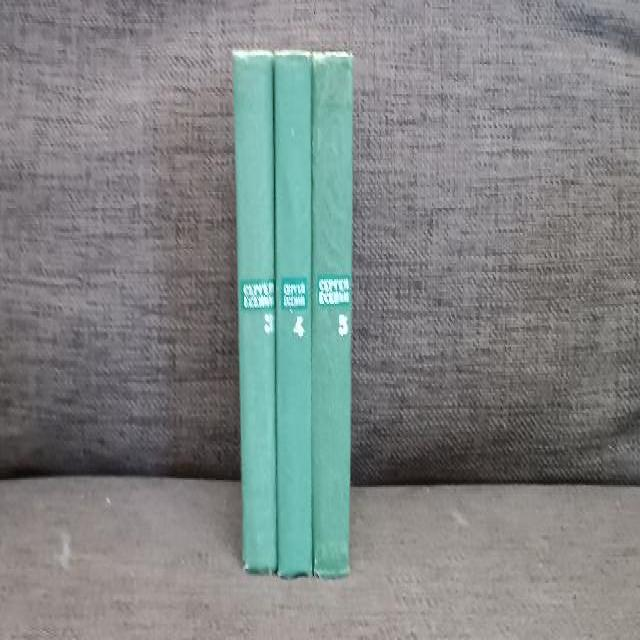book: (235, 52, 276, 573), (315, 52, 350, 577), (277, 51, 312, 574)
